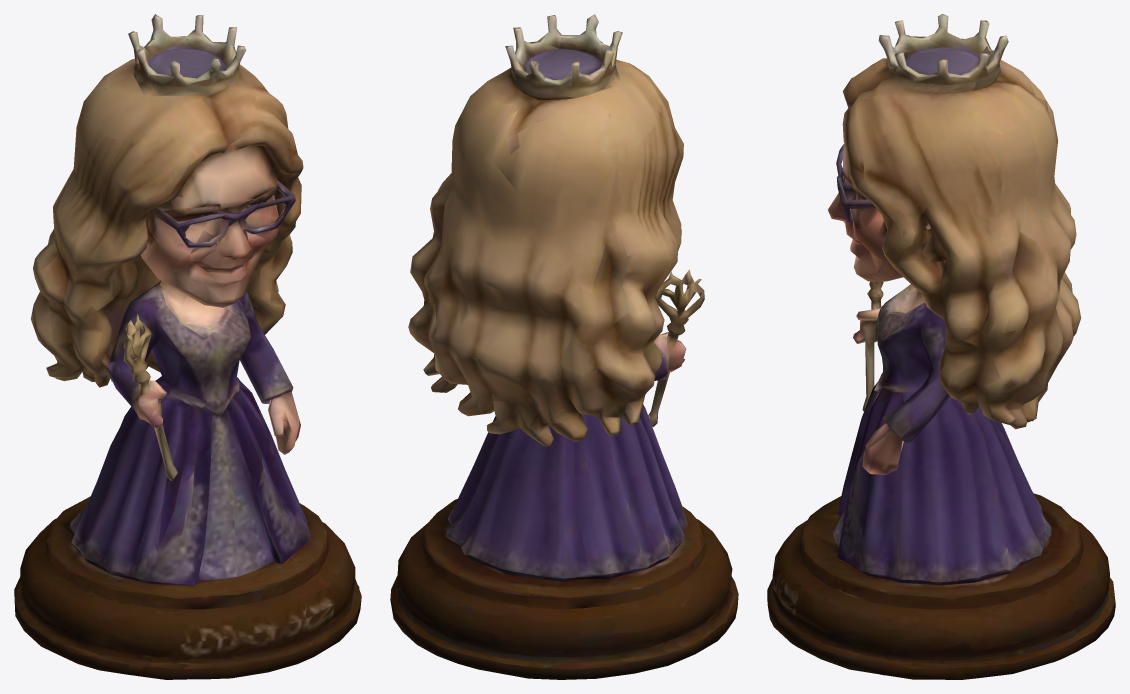
Rendered from queen-kate-10k.glb.
3 renders of one model, left to right at view 1: azimuth 30°, elevation 25°; view 2: azimuth 150°, elevation 25°; view 3: azimuth 270°, elevation 25°, orthographic.
Visible parts, largest first — view 1: world; view 2: world; view 3: world.
Boxes of the visible parts, x1,y1,x2,y2 form: world: [14, 14, 361, 679]; world: [390, 14, 738, 679]; world: [767, 14, 1115, 679].
Bounding box in the file's own units: 0.5519 × 1 × 0.5529.
Materials: 1 (1 with a texture image).
